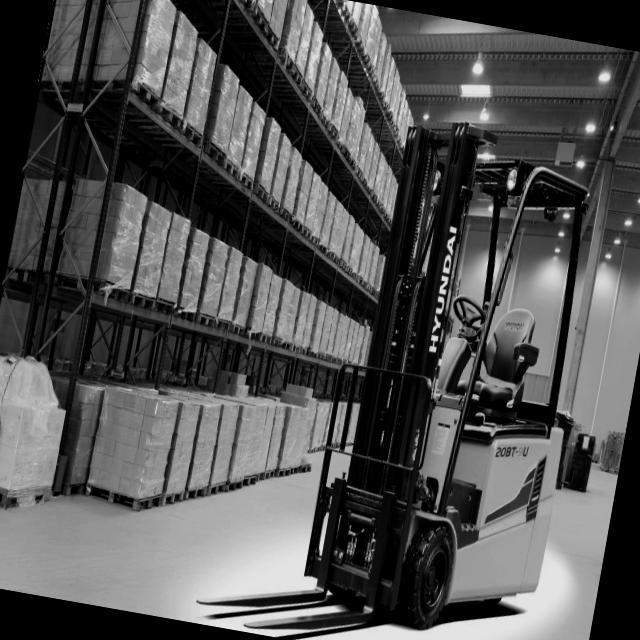forklift: (304, 86, 611, 640)
